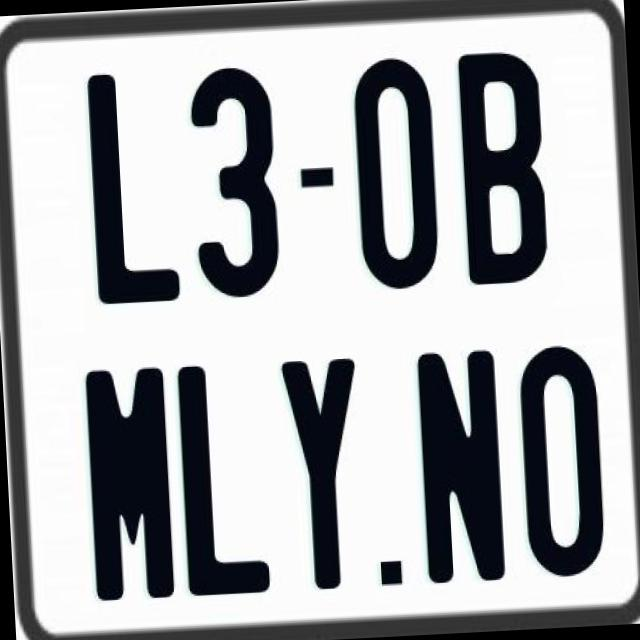0: (514, 339, 608, 574), (350, 57, 440, 296)
3: (190, 66, 288, 307)
B: (458, 47, 552, 282)
L: (84, 70, 179, 308), (174, 362, 268, 598)
M: (82, 362, 177, 598)
N: (416, 347, 511, 590)
Y: (279, 356, 373, 594)
